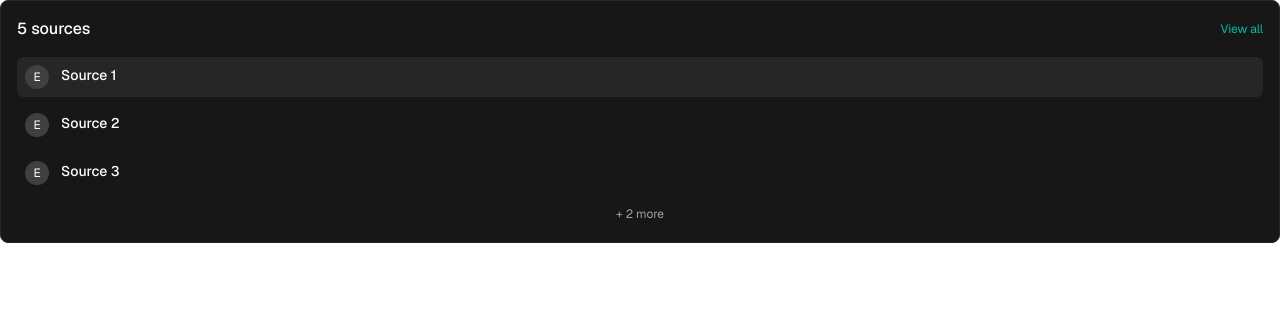
Test: SourcesList › Expand/Collapse › collapses back when "Show less" is clicked
What coordinates should you click on to do the following:
click the button "View all"
I would click on:
 (1242, 29)
Its box is [1220,21,1263,37].
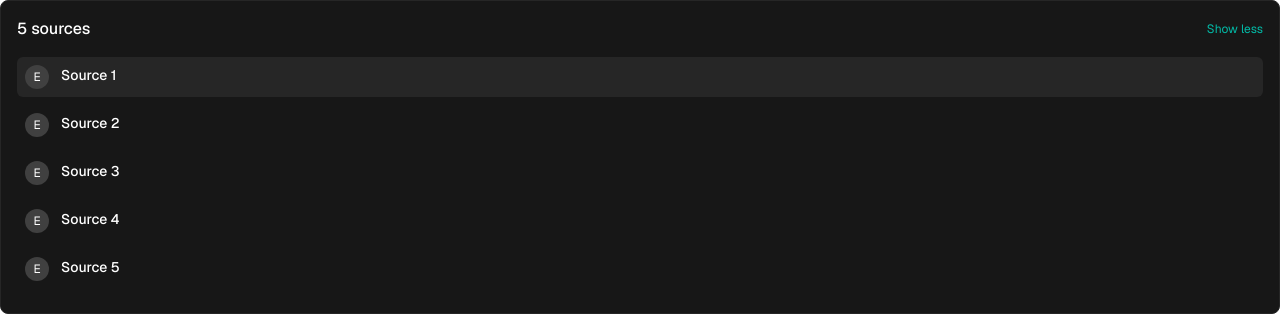
What coordinates should you click on to do the following:
click the button "Show less"
I would click on:
 (1235, 29)
Its box is [1207,21,1263,37].
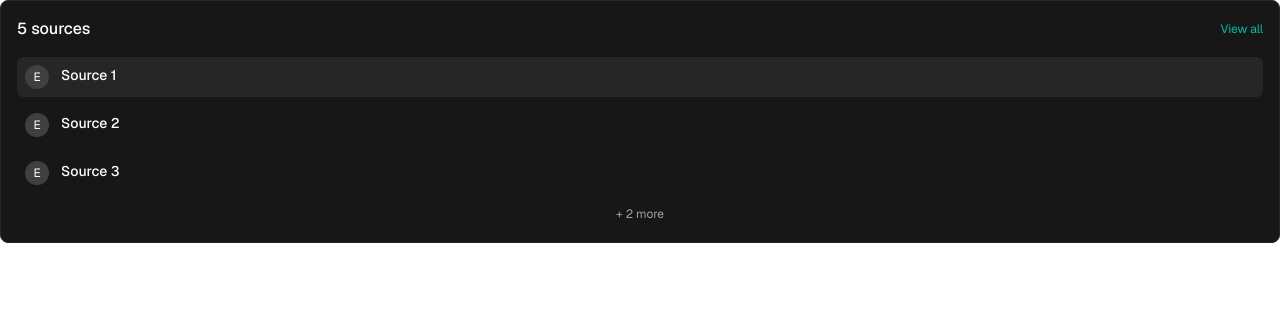
Check: the text "Source 4" is gone
Check: the text "Source 5" is gone
